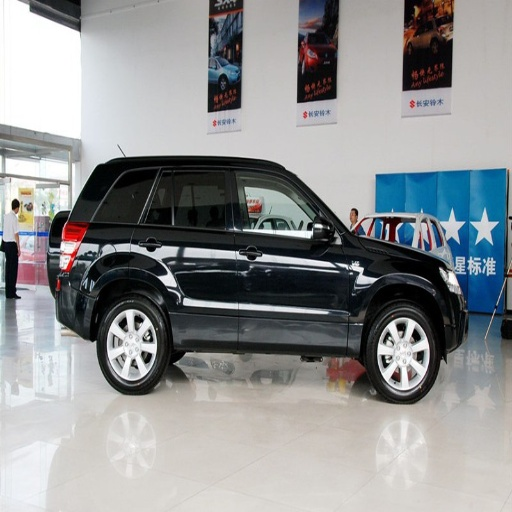back_right_door: (132, 164, 239, 348)
front_right_door: (235, 164, 350, 345)
